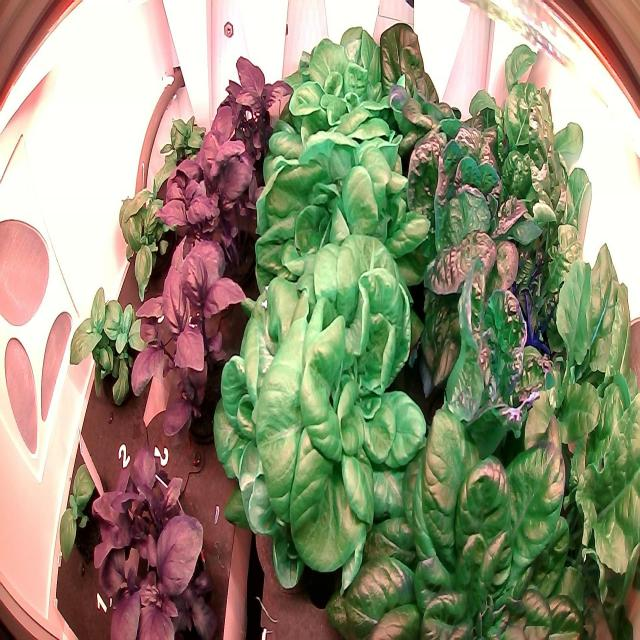Ready: (321, 353, 614, 640), (207, 237, 428, 592), (382, 223, 571, 483), (252, 128, 442, 326), (400, 101, 560, 333), (272, 14, 409, 180), (380, 19, 508, 174)
